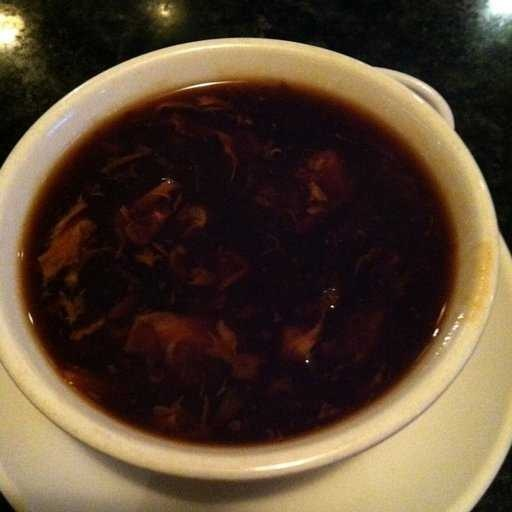soup: (26, 73, 421, 446)
